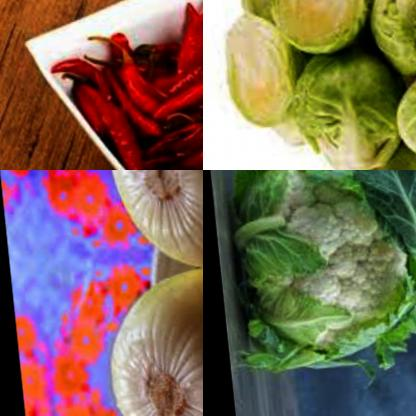brus capusta: (273, 56, 408, 170), (203, 17, 307, 136), (239, 0, 379, 66), (359, 0, 416, 66), (385, 70, 416, 166)
cayliflower: (225, 170, 416, 358)
hot pepper: (53, 0, 203, 170)
onion: (97, 270, 203, 416), (109, 170, 203, 286)
